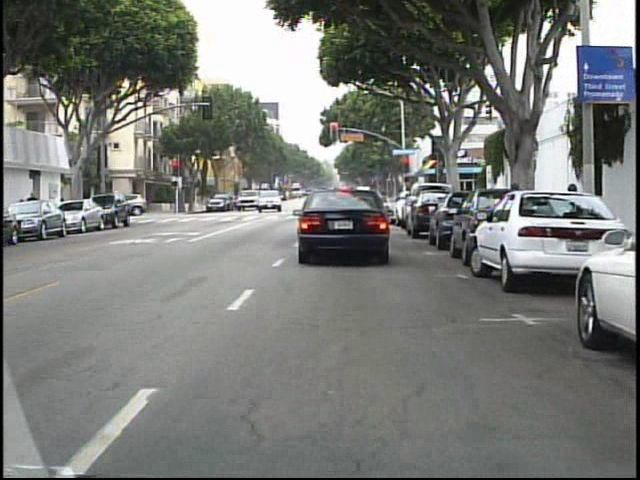person: (26, 188, 42, 229), (129, 189, 145, 218)
